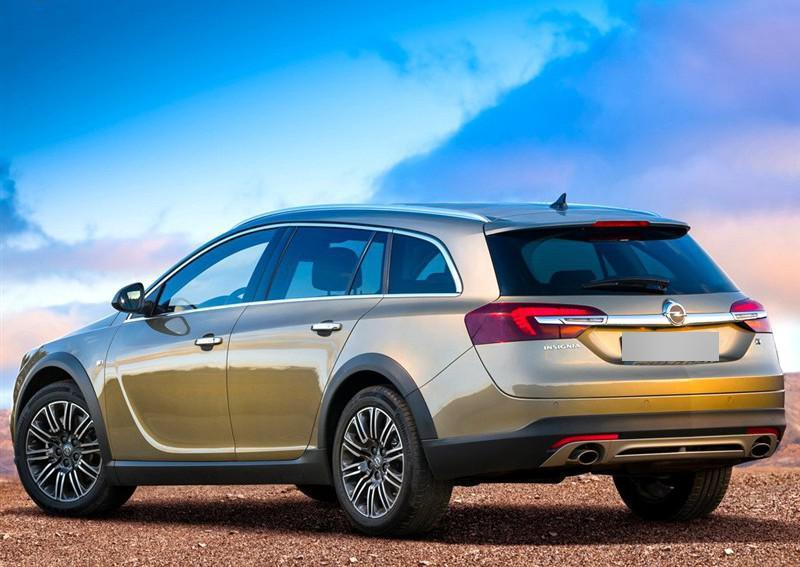Wagon: (9, 200, 786, 541)
